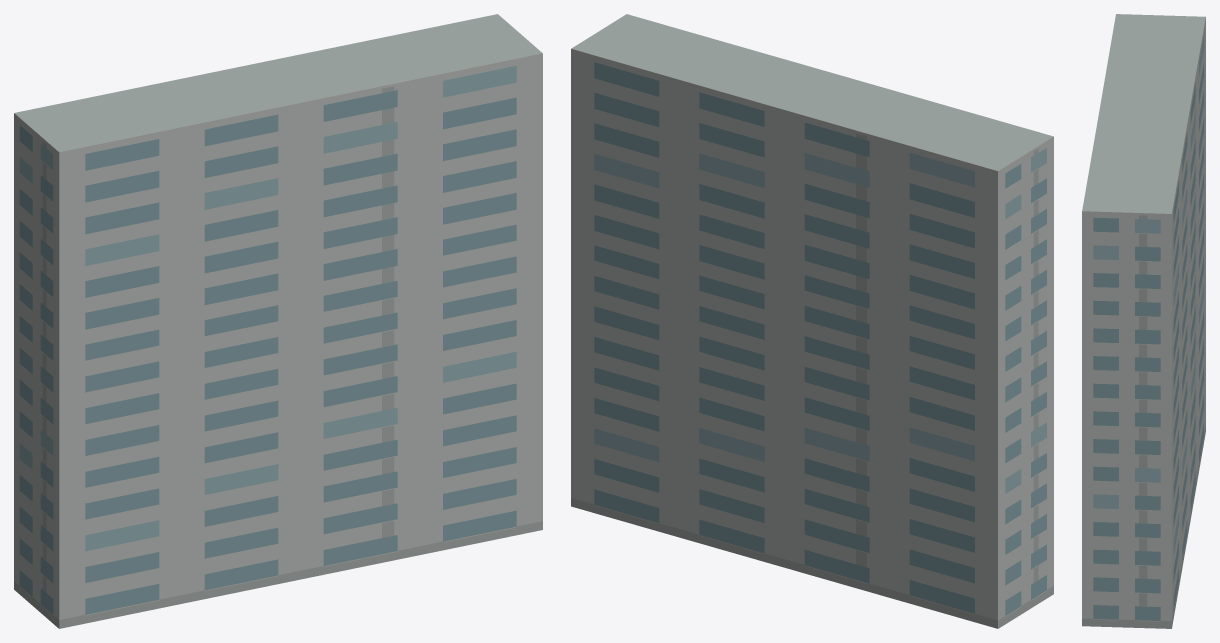
File: residential-3cb49e0a-37e7-40a0-87d4-854e3ea523ff.glb
3 renders of one model, left to right at view 1: azimuth 30°, elevation 25°; view 2: azimuth 150°, elevation 25°; view 3: azimuth 270°, elevation 25°, orthographic. The views are drawn at different scales.
Visible parts, largest first — view 1: residential-3cb49e0a-37e7-40a0-87d4-854e3ea523ff.tmp; view 2: residential-3cb49e0a-37e7-40a0-87d4-854e3ea523ff.tmp; view 3: residential-3cb49e0a-37e7-40a0-87d4-854e3ea523ff.tmp.
Boxes of the visible parts, x1=… form: residential-3cb49e0a-37e7-40a0-87d4-854e3ea523ff.tmp: x1=14, y1=14, x2=542, y2=628; residential-3cb49e0a-37e7-40a0-87d4-854e3ea523ff.tmp: x1=571, y1=14, x2=1053, y2=628; residential-3cb49e0a-37e7-40a0-87d4-854e3ea523ff.tmp: x1=1082, y1=14, x2=1205, y2=628.
Size of the model in its own units: 47.55 by 46 by 12.45.
